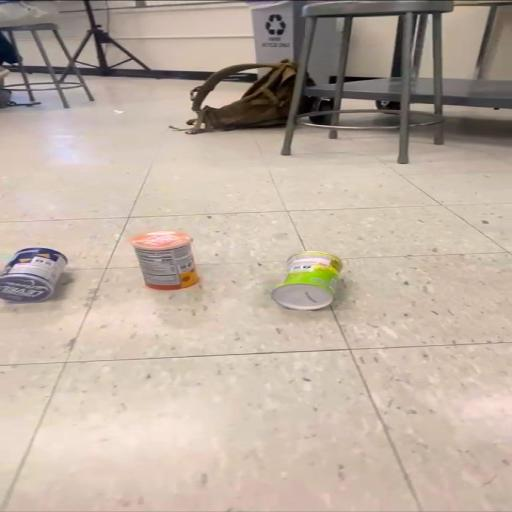pringle can: (271, 252, 342, 309), (132, 231, 198, 290), (0, 248, 68, 302)
